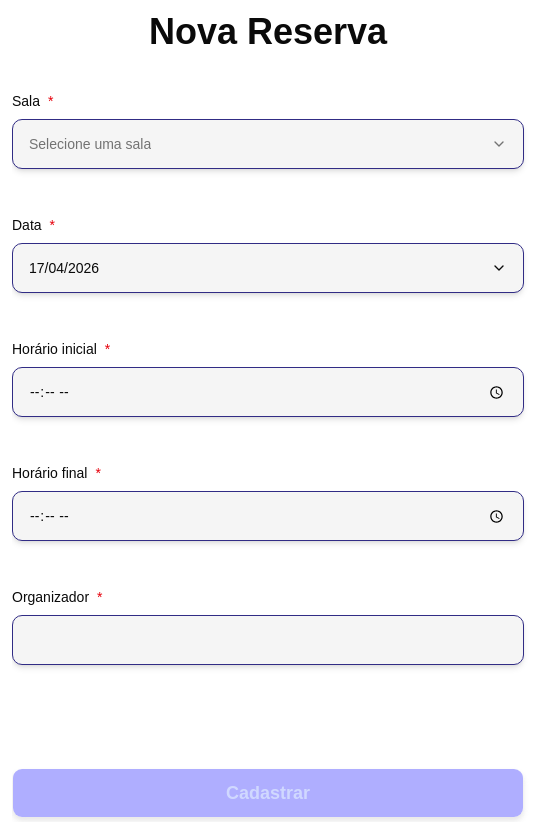
Test case: CreateReservation › Validações › deve mostrar erro quando campo estiver vazio: 'input-inicio'
Click the time field with test id "input-inicio" at (268, 392), box [12,367,524,417]
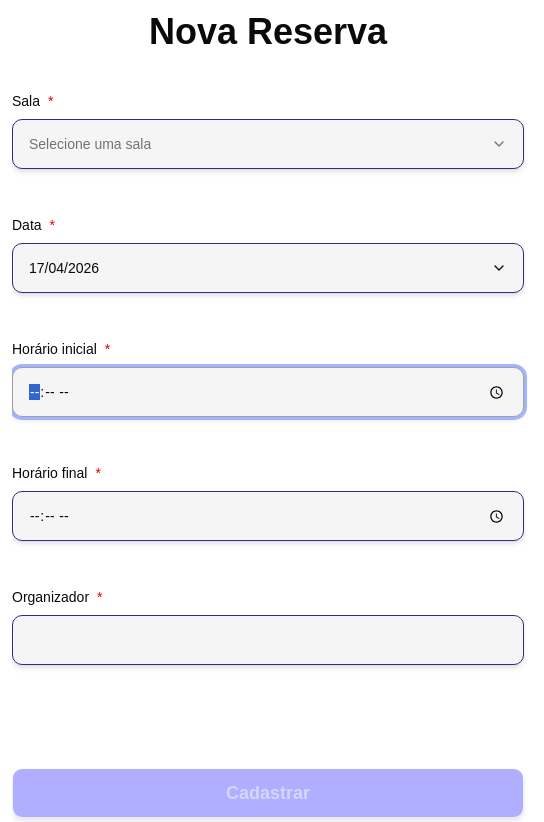
Press Tab
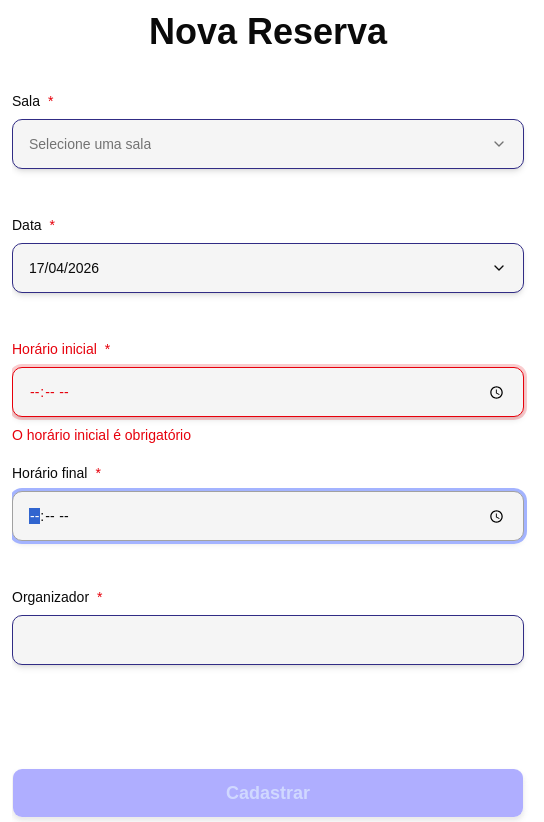
Result: the text "O horário inicial é obrigatório" is shown at [12,427,191,443]
